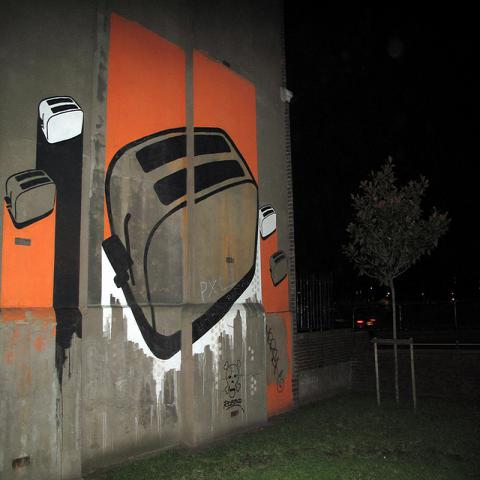car: (356, 311, 377, 330)
